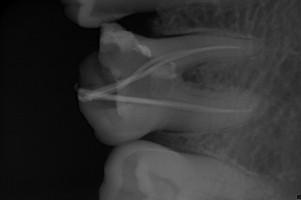Endo-Periodontal Lesion: (181, 61, 207, 83)
